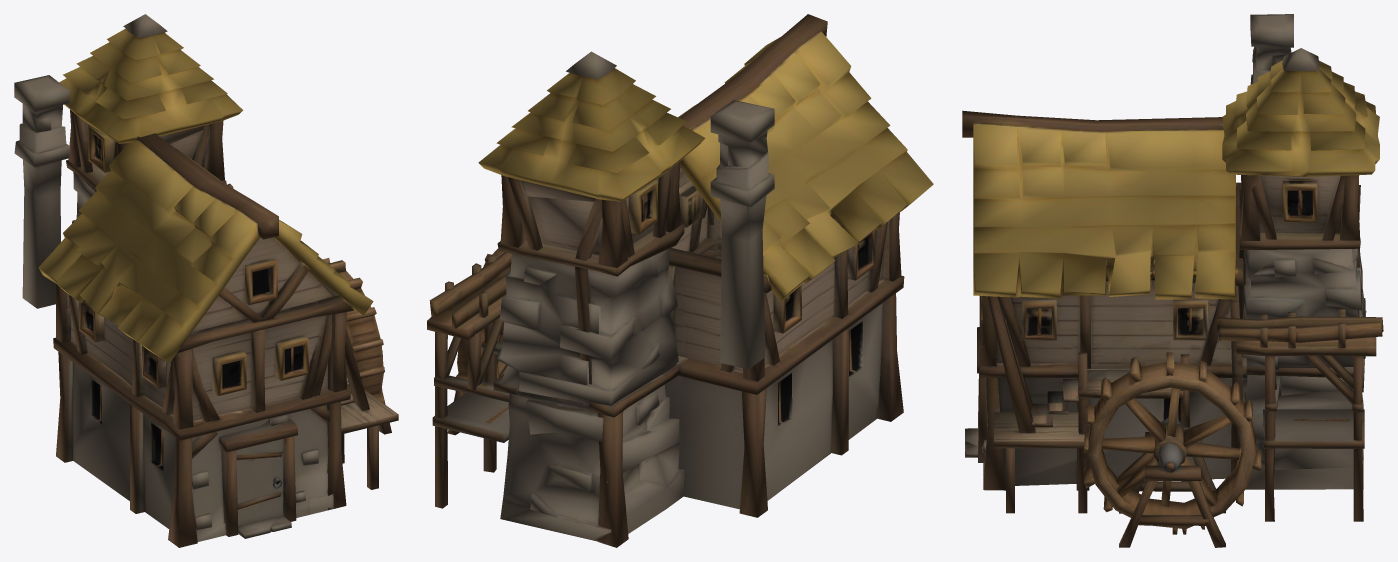
The model's file is selected.fbx.
3 views of the same model, side by side, from view 1: azimuth 30°, elevation 25°; view 2: azimuth 150°, elevation 25°; view 3: azimuth 270°, elevation 25° (orthographic). The views are drawn at different scales.
Parts seen in each view (by area): view 1: tripo_node_e8f1dd21-026a-4c0f-8e77-4e0e4601a940; view 2: tripo_node_e8f1dd21-026a-4c0f-8e77-4e0e4601a940; view 3: tripo_node_e8f1dd21-026a-4c0f-8e77-4e0e4601a940.
Part boxes in pixels (left/top/right/bottom): tripo_node_e8f1dd21-026a-4c0f-8e77-4e0e4601a940: left=14, top=14, right=398, bottom=547; tripo_node_e8f1dd21-026a-4c0f-8e77-4e0e4601a940: left=427, top=14, right=933, bottom=547; tripo_node_e8f1dd21-026a-4c0f-8e77-4e0e4601a940: left=962, top=14, right=1383, bottom=547.
Size of the model in its own units: 81.45 by 99.8 by 90.82.
1 material, 1 textured.
